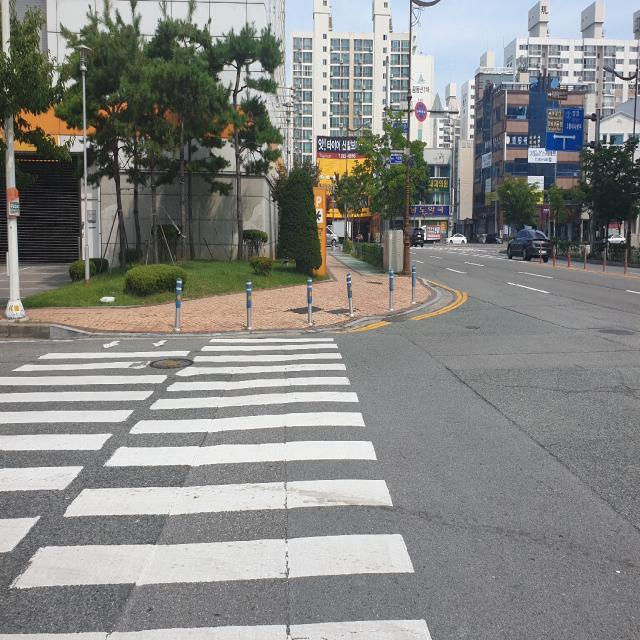횡단보도: (0, 338, 432, 640)
